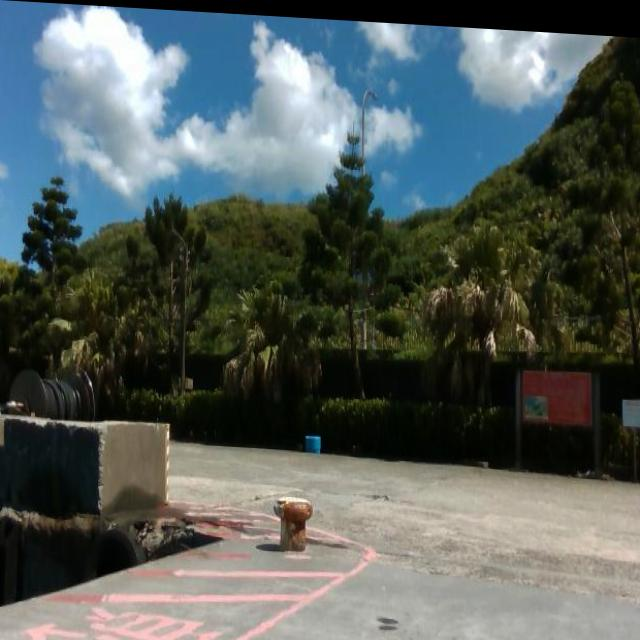pollute: (305, 432, 324, 452)
